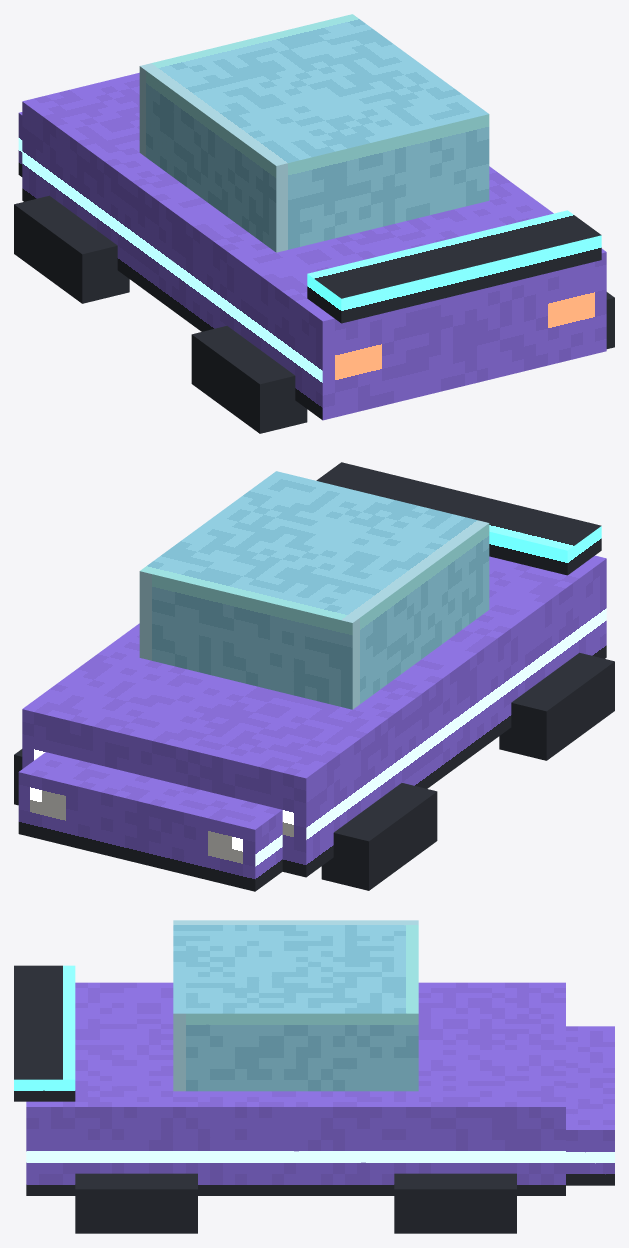
File: flying_car_4.glb
The picture shows the model from 3 angles, top to bottom: view 1: azimuth 30°, elevation 25°; view 2: azimuth 150°, elevation 25°; view 3: azimuth 270°, elevation 25°; orthographic projection. The views are drawn at different scales.
Parts seen in each view (by area): view 1: flying_car_4_hull, flying_car_4_canopy, flying_car_4_spoiler, flying_car_4_pod_lb, flying_car_4_pod_lf; view 2: flying_car_4_hull, flying_car_4_canopy, flying_car_4_nose, flying_car_4_spoiler, flying_car_4_pod_lf, flying_car_4_pod_lb; view 3: flying_car_4_hull, flying_car_4_canopy, flying_car_4_spoiler, flying_car_4_nose, flying_car_4_pod_rb, flying_car_4_pod_rf.
Part boxes in pixels (box(x1,y1,x2,y2)): flying_car_4_hull: box(22, 72, 606, 420); flying_car_4_canopy: box(139, 14, 489, 252); flying_car_4_spoiler: box(307, 210, 601, 323); flying_car_4_pod_lb: box(191, 326, 307, 433); flying_car_4_pod_lf: box(14, 195, 129, 303); flying_car_4_hull: box(22, 555, 606, 877); flying_car_4_canopy: box(139, 471, 489, 709); flying_car_4_nose: box(18, 752, 282, 891); flying_car_4_spoiler: box(316, 462, 601, 575); flying_car_4_pod_lf: box(321, 783, 437, 890); flying_car_4_pod_lb: box(499, 652, 614, 760); flying_car_4_hull: box(26, 982, 565, 1195); flying_car_4_canopy: box(173, 920, 418, 1091); flying_car_4_spoiler: box(14, 965, 75, 1101); flying_car_4_nose: box(566, 1026, 614, 1185); flying_car_4_pod_rb: box(75, 1173, 197, 1233); flying_car_4_pod_rf: box(394, 1173, 516, 1233).
Size of the model in its own units: 1.88 by 1.06 by 3.06.
1 material, 1 textured.
